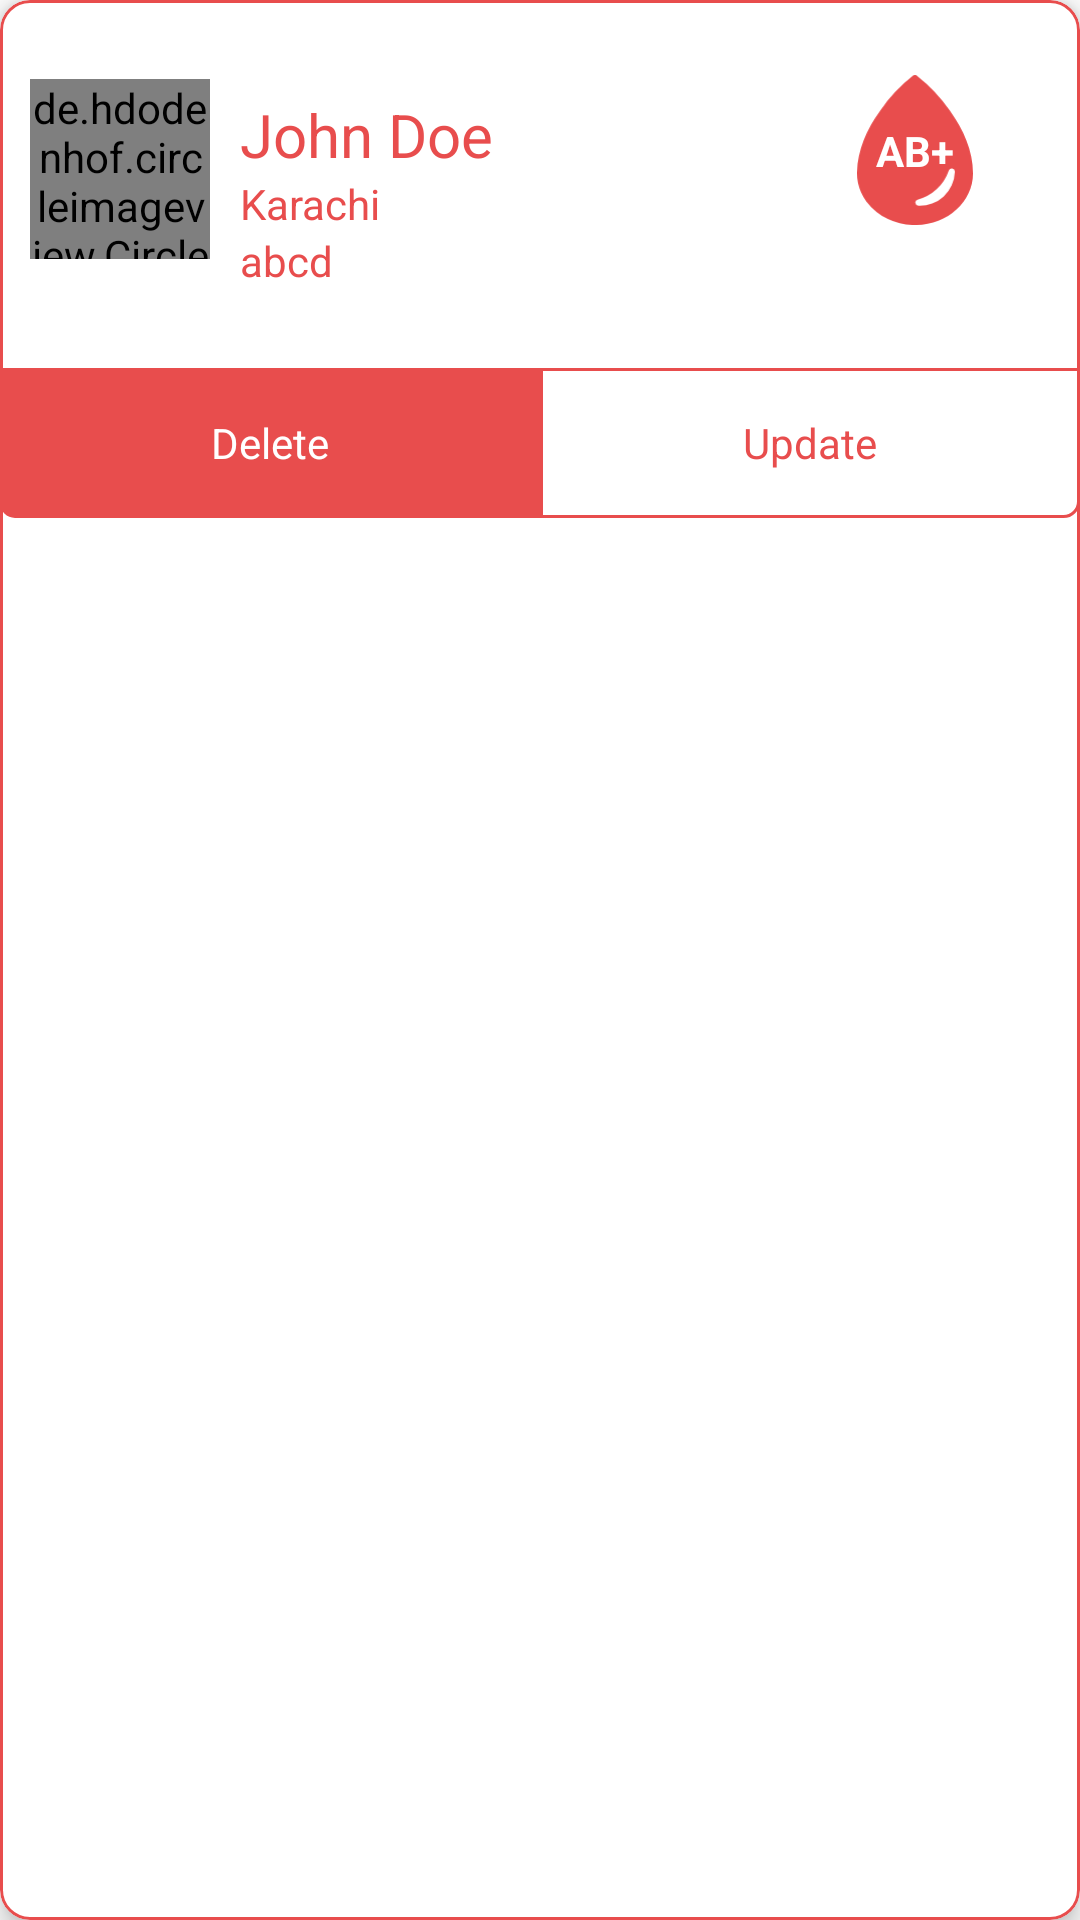

Where icons sit on this 1080px×1920px app screen, as (x1, y1, x2, y2):
blood: (857, 75, 973, 225)
